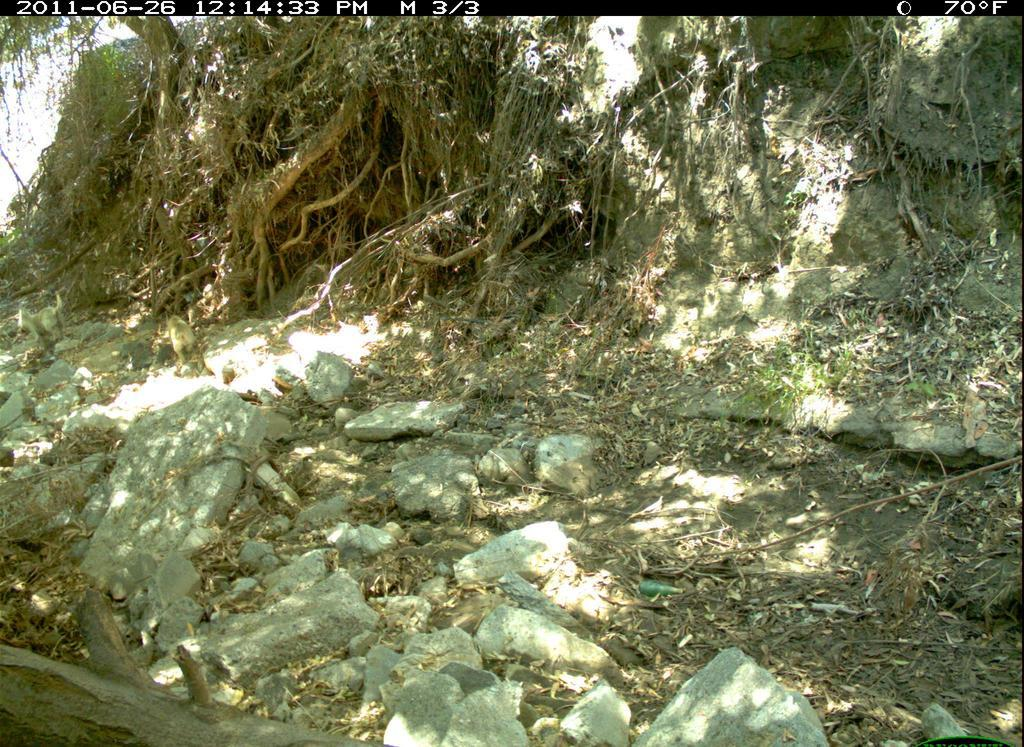dog: (19, 289, 72, 351)
